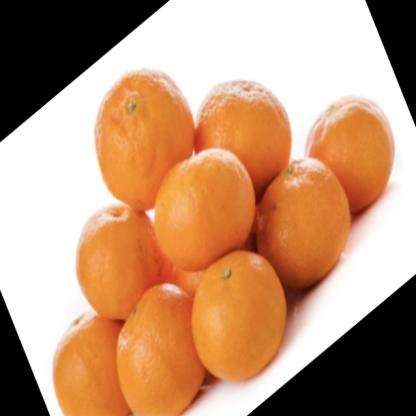fresh: (55, 67, 396, 416)
